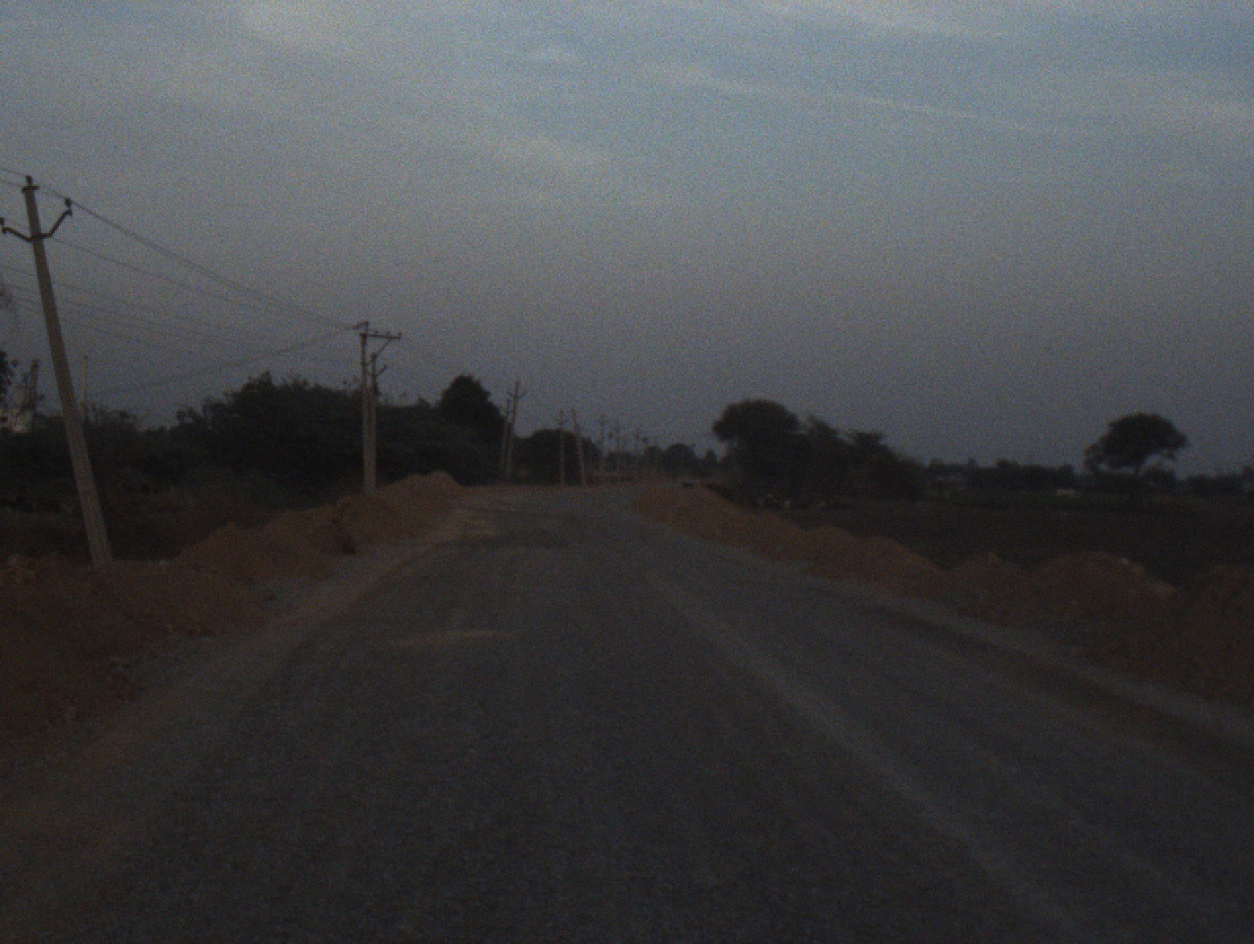animal: (789, 487, 834, 518), (741, 483, 782, 517), (683, 474, 732, 502)
